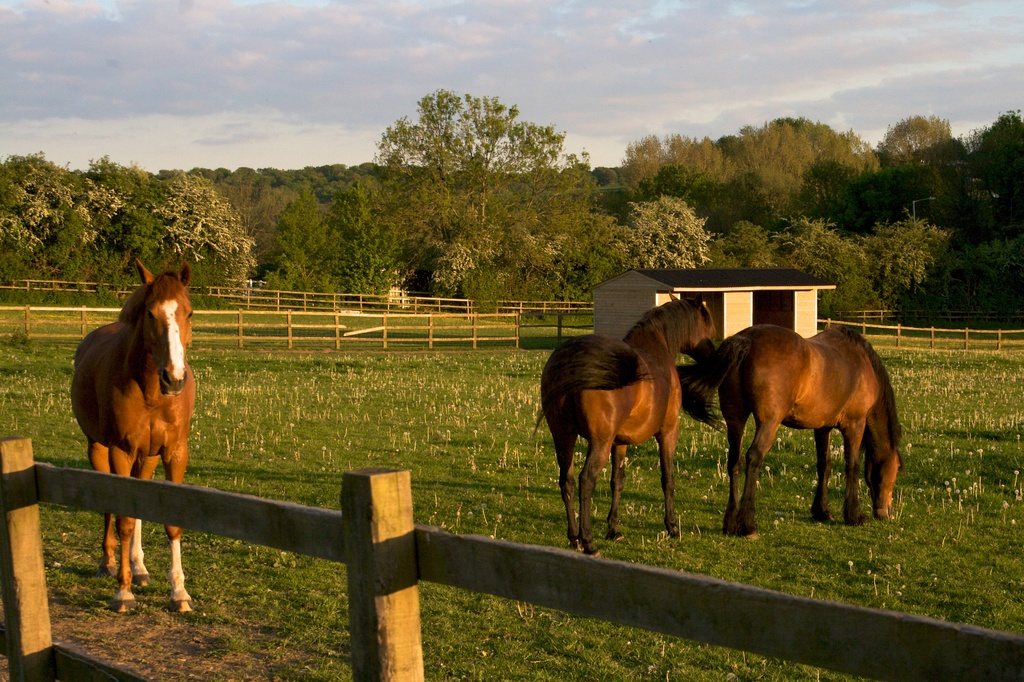horse: (712, 324, 908, 546)
